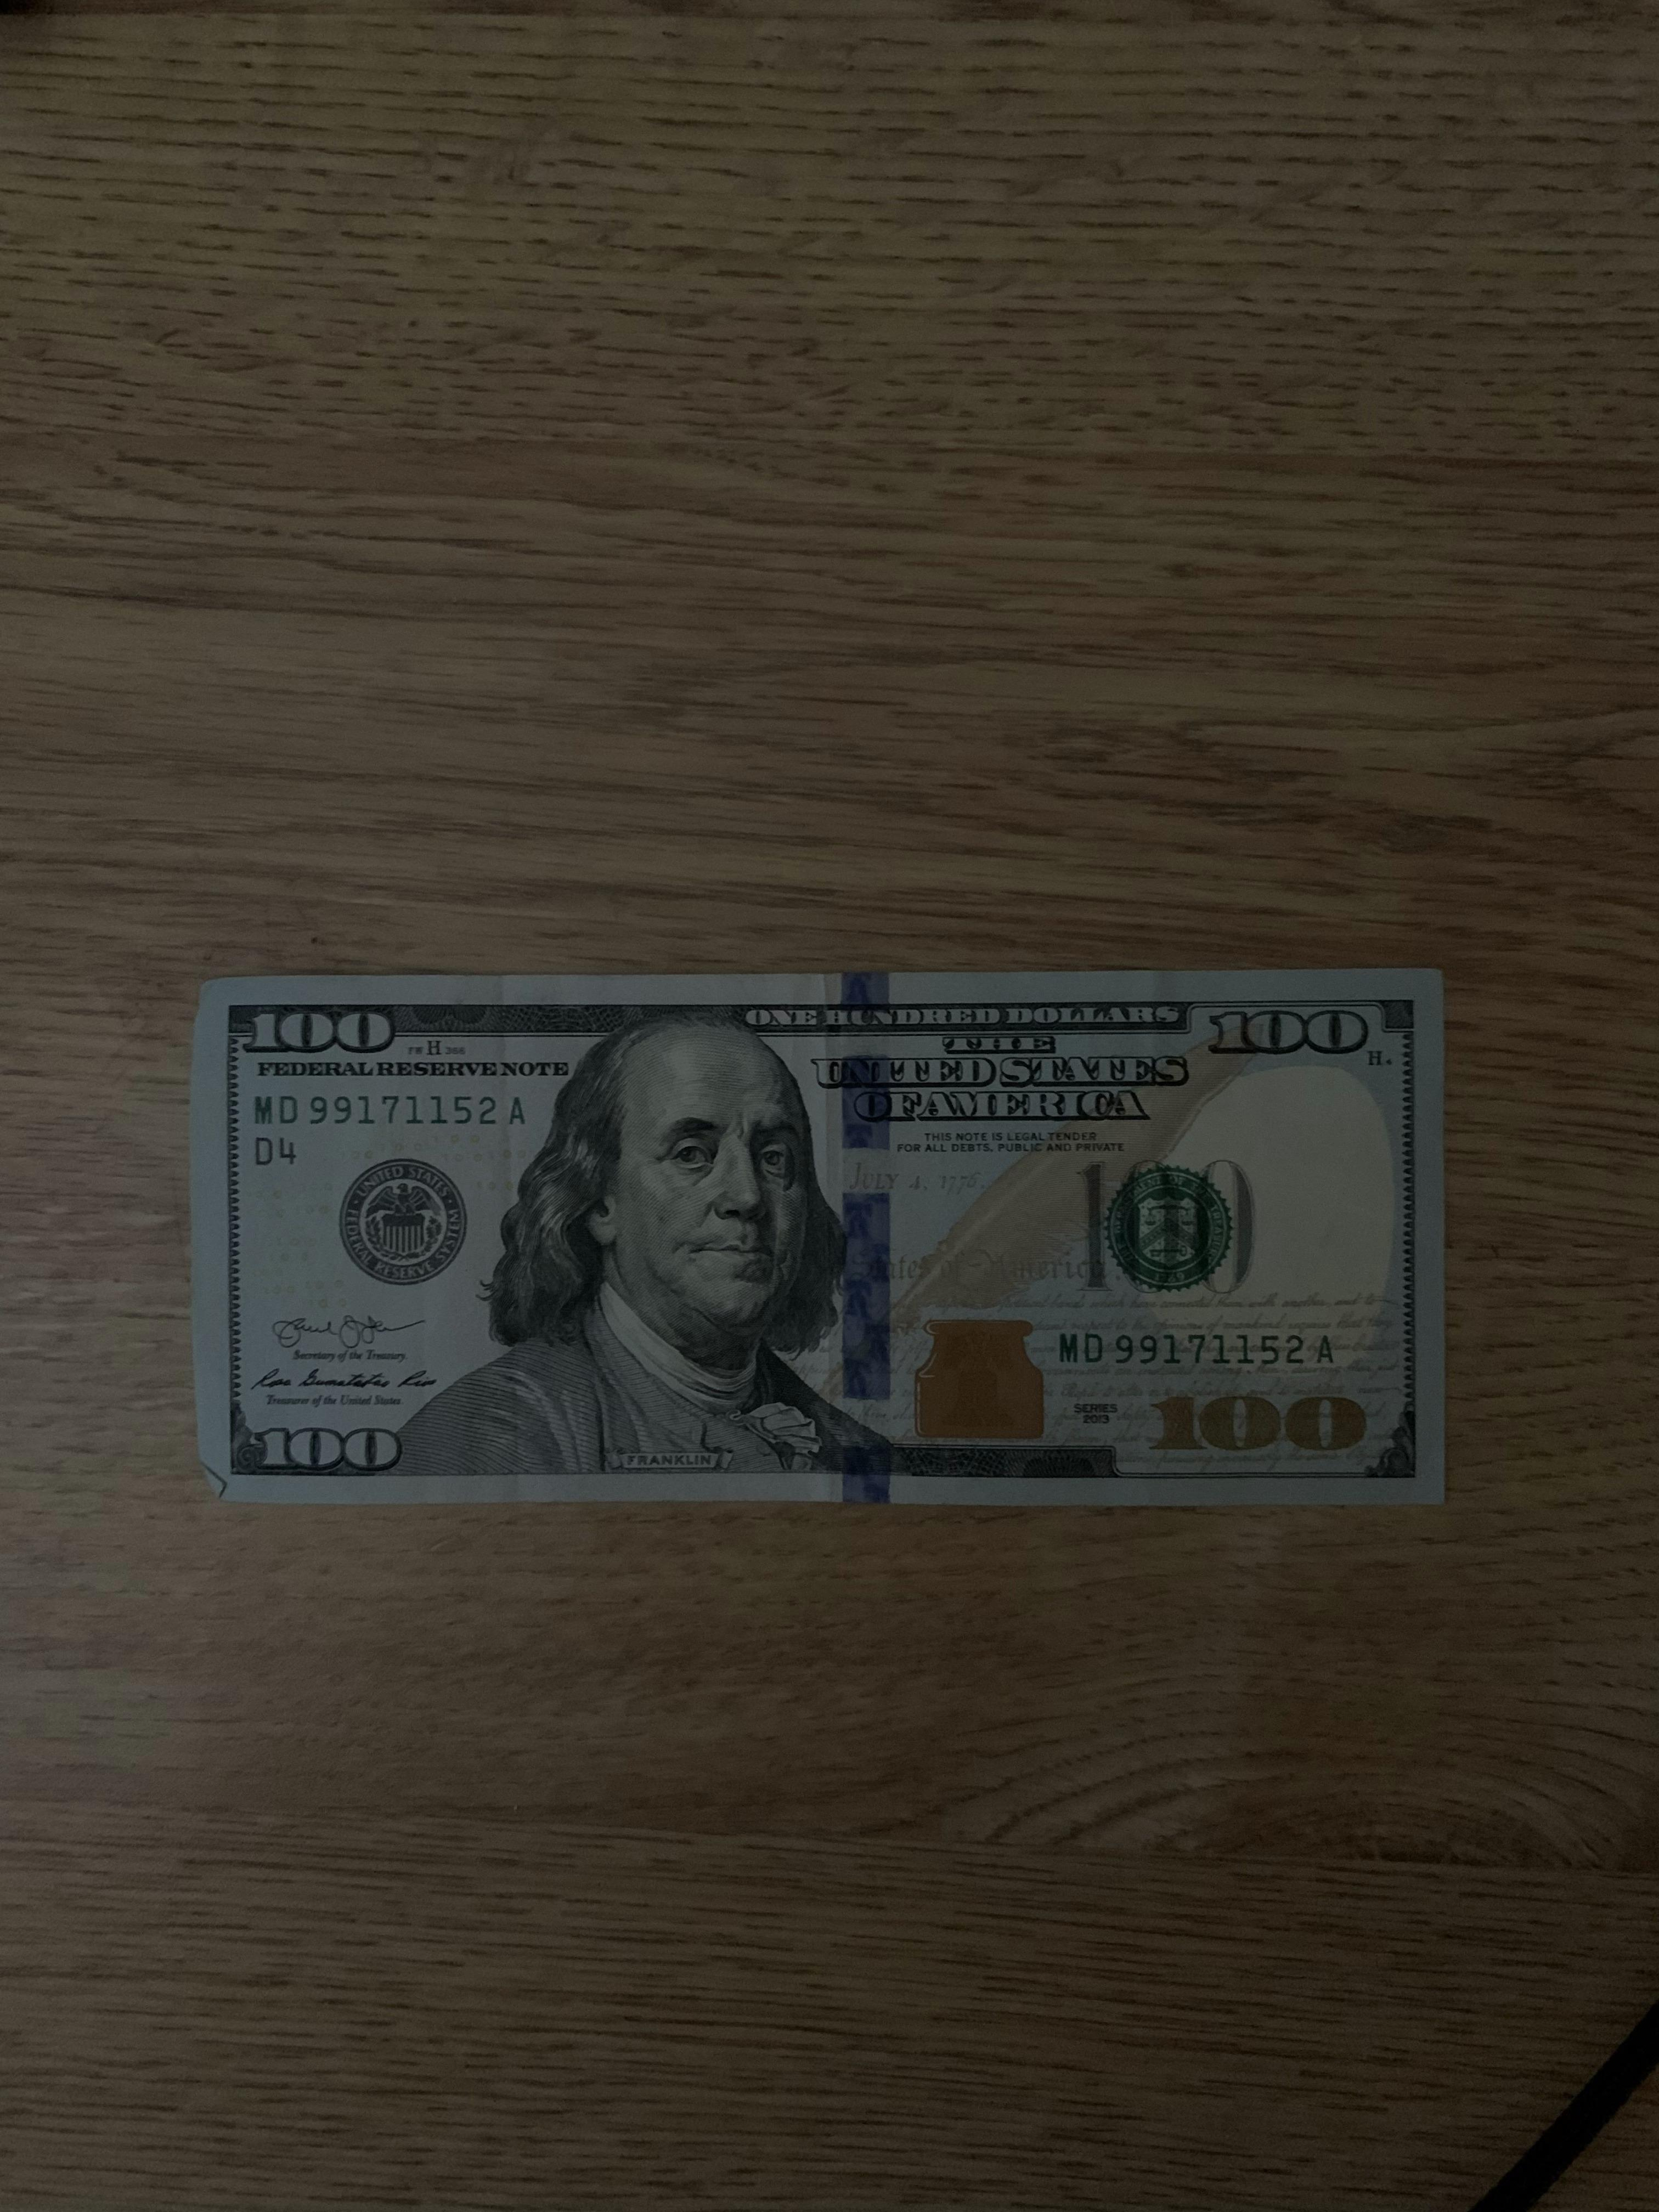HundredBill: (192, 972, 1452, 1510)
